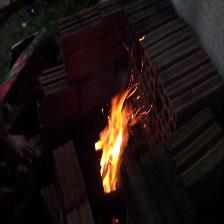fire: (75, 75, 160, 224)
